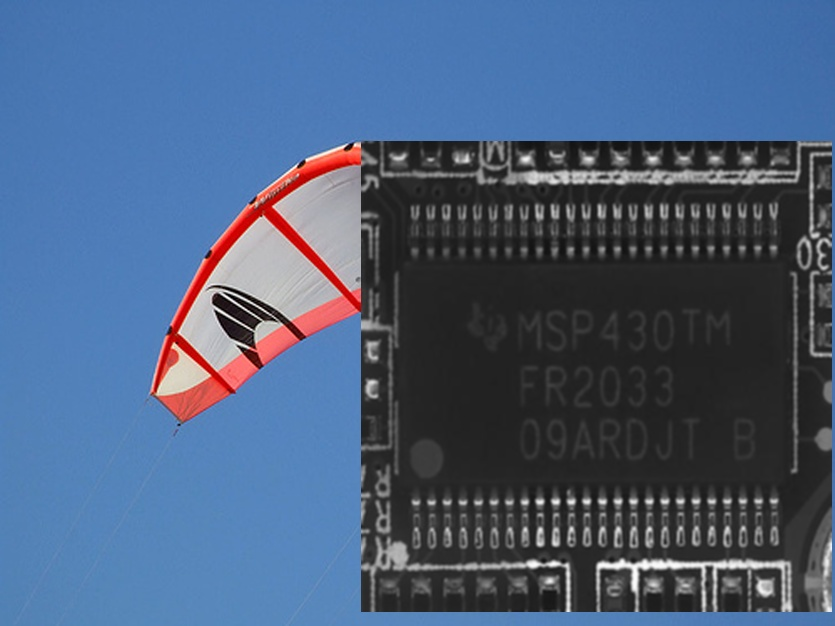PIN: (396, 188, 796, 281), (394, 465, 798, 555)
kite: (155, 143, 557, 512)
